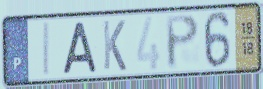4: (135, 15, 163, 73)
6: (202, 9, 232, 70)
A: (61, 19, 100, 76)
I: (42, 20, 52, 79)
K: (101, 19, 128, 73)
P: (163, 12, 201, 72)
